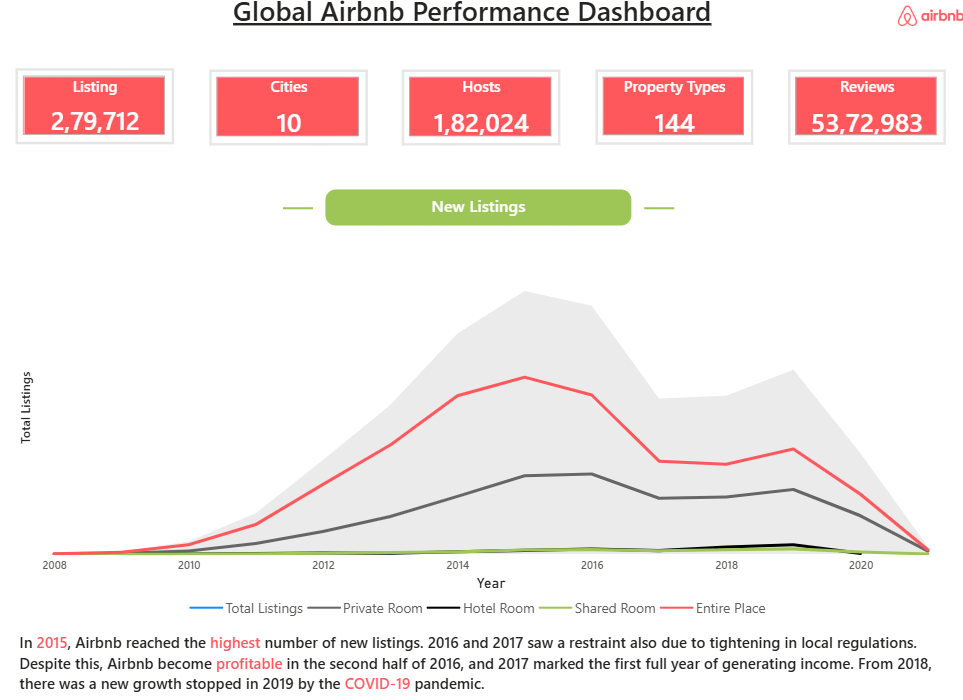

What the dashboard file says about the page in this screenshot:
{"tool":"powerbi","page":{"name":"Overview","canvas":[960,720],"ordinal":0},"visuals":[{"type":"textbox","box":[234.8,0,490.4,45.2],"z":0},{"type":"image","box":[885.3,11,74.6,34.2],"z":1000},{"type":"cardVisual","fields":{"Data":["CountNonNull(Listings.listing_id)"]},"box":[26.7,79.5,155.3,74.6],"z":2000},{"type":"cardVisual","fields":{"Data":["Count(Listings.city)"]},"box":[215.9,80.7,155.3,74.6],"z":3000},{"type":"cardVisual","fields":{"Data":["Count(Listings.host_id)"]},"box":[405.1,80.7,155.3,74.6],"z":4000},{"type":"cardVisual","fields":{"Data":["Count(Listings.property_type)"]},"box":[594.4,80.7,154.1,73.4],"z":5000},{"type":"cardVisual","fields":{"Data":["Count(Reviews.review_id)"]},"box":[782.4,80.7,154.1,73.4],"z":6000},{"type":"lineChart","fields":{"Category":["Listings.host_since.Variation.Date Hierarchy.Year"],"Y":["CountNonNull(Listings.listing_id)","Listings.Private Room","Listings.Hotel Room","Listings.Shared Room","Listings.Entire Place"]},"box":[26.9,254.3,909.8,371.7],"z":7000},{"type":"textbox","box":[330.2,198.6,299.6,35.5],"z":8000},{"type":"shape","box":[288.6,190.8,29.3,51.4],"z":9000},{"type":"shape","box":[642,190.8,29.3,51.4],"z":10000},{"type":"textbox","box":[25.7,626.1,909.8,77],"z":11000}]}

Visuals, with their boxes on the page's 960x720 design canvas (x1, y1, x2, y2). These are canvas units, not pixel positions in the 963x700 screenshot, which may show the page scaled, cropped or inside an application window:
textbox: (235, 0, 725, 45)
image: (885, 11, 960, 45)
cardVisual - CountNonNull(Listings.listing_id): (27, 80, 182, 154)
cardVisual - Count(Listings.city): (216, 81, 371, 155)
cardVisual - Count(Listings.host_id): (405, 81, 560, 155)
cardVisual - Count(Listings.property_type): (594, 81, 748, 154)
cardVisual - Count(Reviews.review_id): (782, 81, 936, 154)
lineChart - Listings.host_since.Variation.Date Hierarchy.Year x CountNonNull(Listings.listing_id): (27, 254, 937, 626)
textbox: (330, 199, 630, 234)
shape: (289, 191, 318, 242)
shape: (642, 191, 671, 242)
textbox: (26, 626, 936, 703)
